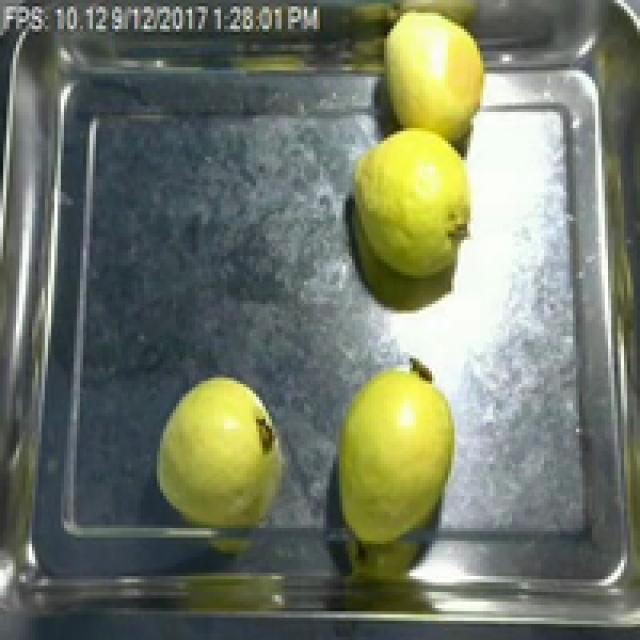Fruit: (339, 118, 486, 301), (326, 358, 464, 550), (148, 368, 294, 528), (368, 3, 496, 154)
